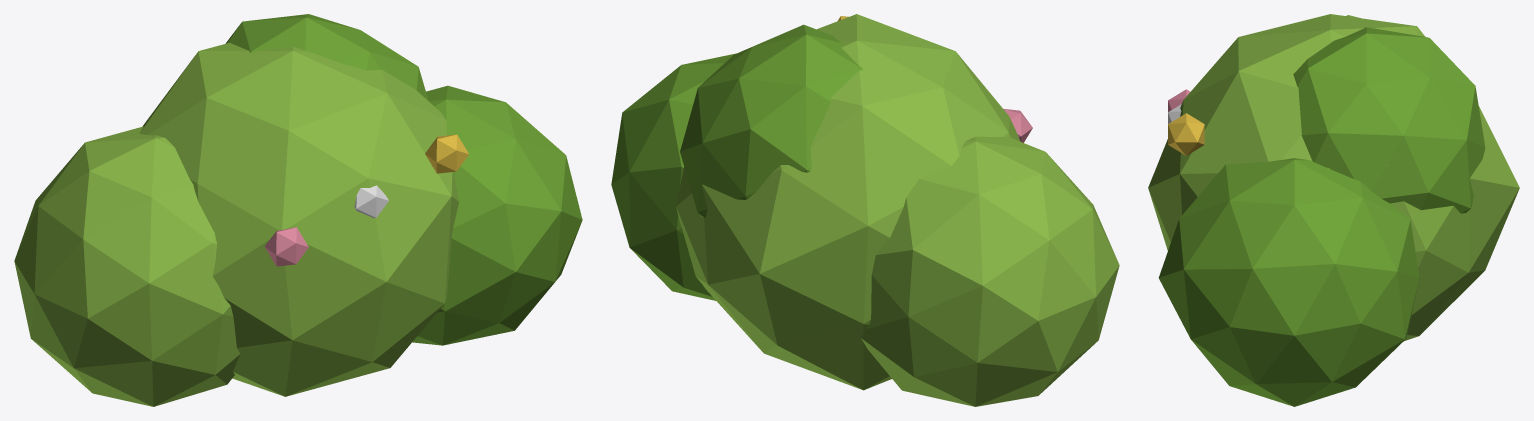
The model's file is bush.glb.
3 renders of one model, left to right at view 1: azimuth 30°, elevation 25°; view 2: azimuth 150°, elevation 25°; view 3: azimuth 270°, elevation 25°, orthographic. The views are drawn at different scales.
Parts seen in each view (by area): view 1: bush_mesh; view 2: bush_mesh; view 3: bush_mesh.
Part boxes in pixels (bbox=[...]): bush_mesh: bbox=[14, 14, 582, 406]; bush_mesh: bbox=[611, 14, 1119, 406]; bush_mesh: bbox=[1148, 14, 1519, 406].
Size of the model in its own units: 1.58 by 1.03 by 1.03.
